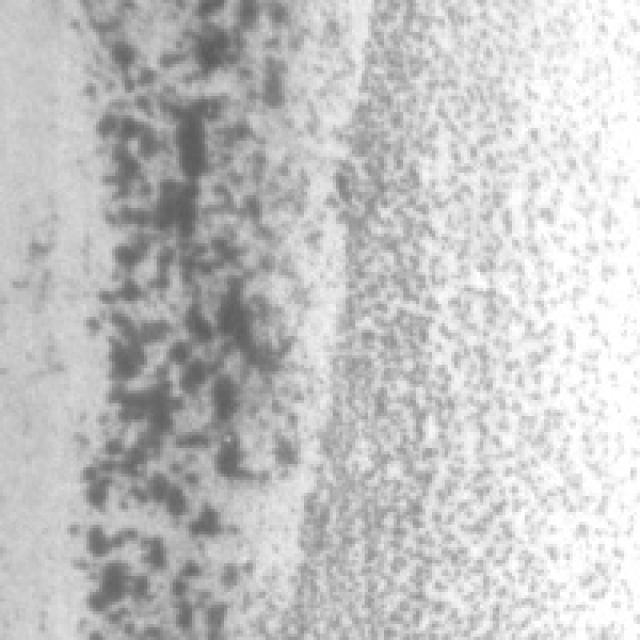pitted_surface: (297, 0, 634, 634), (67, 0, 314, 634)
